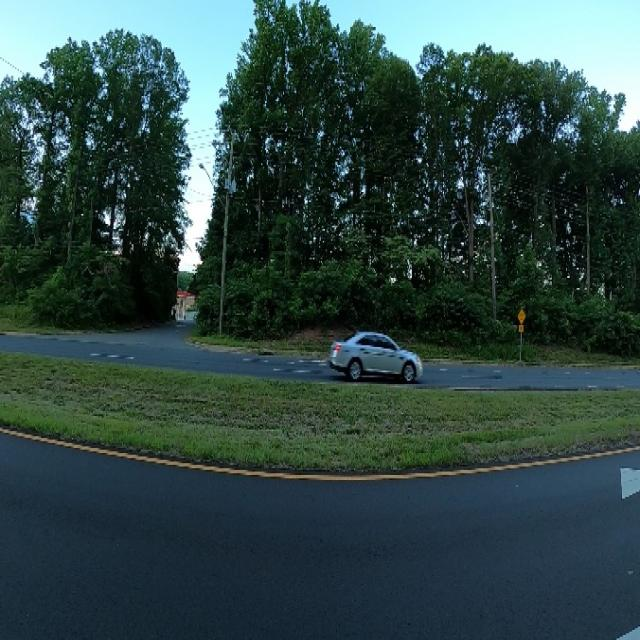cars: (326, 323, 427, 384)
